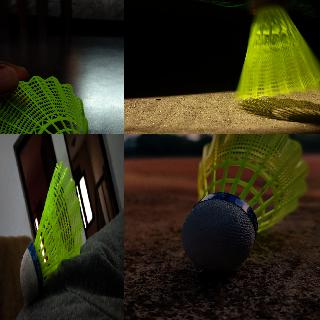shuttlecock: (181, 134, 308, 270), (20, 161, 82, 301), (233, 0, 319, 99), (0, 76, 95, 133)
